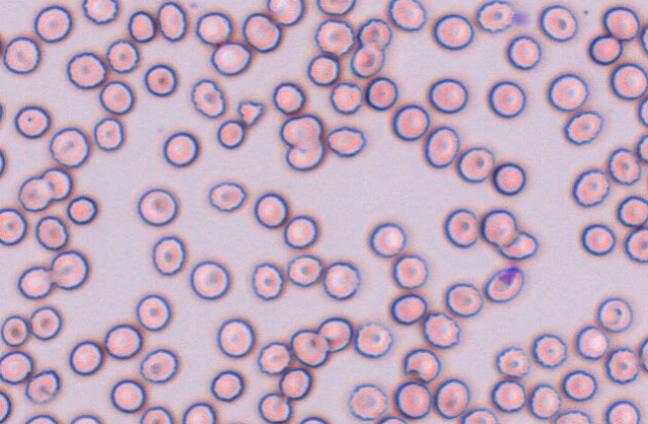PLT: (513, 9, 532, 27)
RBC: (48, 126, 90, 168), (547, 72, 589, 112), (49, 249, 89, 290), (189, 260, 230, 300), (136, 187, 178, 226), (241, 12, 281, 52), (347, 382, 388, 421), (216, 317, 255, 358), (289, 328, 329, 367), (314, 18, 355, 56), (432, 13, 474, 50), (33, 4, 72, 43), (571, 168, 610, 207), (322, 260, 360, 300), (66, 51, 106, 89), (433, 378, 470, 419), (424, 125, 459, 168), (279, 113, 323, 147), (353, 320, 392, 358), (2, 36, 41, 74), (487, 80, 526, 118), (483, 266, 523, 303), (609, 62, 647, 100), (392, 103, 430, 141), (539, 4, 577, 42), (456, 145, 494, 183), (421, 311, 460, 348), (394, 380, 431, 419), (480, 208, 517, 247), (103, 323, 143, 359), (190, 78, 226, 118), (428, 77, 468, 113), (443, 208, 479, 248), (210, 41, 251, 76), (368, 221, 406, 258), (151, 235, 186, 275), (563, 110, 603, 145), (135, 293, 171, 331), (602, 5, 640, 41), (139, 348, 178, 383), (444, 282, 483, 317), (391, 253, 428, 289), (17, 176, 53, 212), (317, 316, 353, 352), (596, 296, 632, 332), (531, 332, 567, 368), (98, 79, 134, 115), (162, 131, 198, 167), (605, 346, 639, 384), (607, 147, 641, 185), (250, 262, 284, 300), (475, 0, 514, 33), (24, 369, 60, 404), (349, 42, 384, 78), (110, 378, 146, 413), (253, 192, 288, 228), (506, 34, 541, 70), (528, 382, 562, 419), (286, 253, 323, 287), (195, 11, 232, 45), (207, 180, 246, 212), (326, 125, 365, 157), (156, 1, 187, 41), (256, 340, 291, 375), (68, 340, 103, 375), (283, 214, 318, 249), (490, 379, 526, 413), (14, 104, 50, 138), (285, 140, 324, 171), (498, 230, 538, 260), (17, 265, 52, 299), (34, 215, 68, 250), (575, 325, 609, 360), (105, 38, 139, 73), (494, 345, 530, 378), (390, 293, 427, 325), (388, 0, 426, 31), (143, 63, 177, 97), (29, 305, 62, 340), (561, 369, 597, 401), (580, 223, 616, 255), (0, 350, 33, 384), (278, 367, 312, 400), (210, 369, 244, 402), (306, 53, 340, 86), (329, 81, 363, 114), (492, 162, 526, 195), (365, 76, 398, 110), (257, 391, 292, 423), (272, 81, 305, 114), (40, 167, 72, 201), (357, 17, 392, 48), (588, 34, 622, 65), (93, 117, 124, 151), (0, 207, 27, 245), (616, 195, 647, 227), (266, 0, 304, 26), (0, 314, 29, 347), (66, 195, 97, 225), (127, 10, 156, 42), (81, 0, 119, 24), (216, 119, 245, 149), (605, 399, 641, 423), (624, 226, 647, 263), (182, 401, 217, 423), (316, 0, 356, 16), (459, 407, 498, 423), (139, 405, 173, 423), (552, 409, 592, 423), (0, 389, 12, 423), (24, 413, 58, 423), (636, 133, 647, 163), (69, 413, 102, 423), (638, 336, 647, 372), (637, 96, 647, 127), (640, 23, 648, 55), (376, 415, 408, 423), (298, 415, 329, 423), (0, 148, 6, 178), (0, 30, 6, 57), (221, 419, 248, 424), (0, 101, 3, 127)
Schistocyte: (403, 348, 440, 383), (236, 100, 264, 129)
